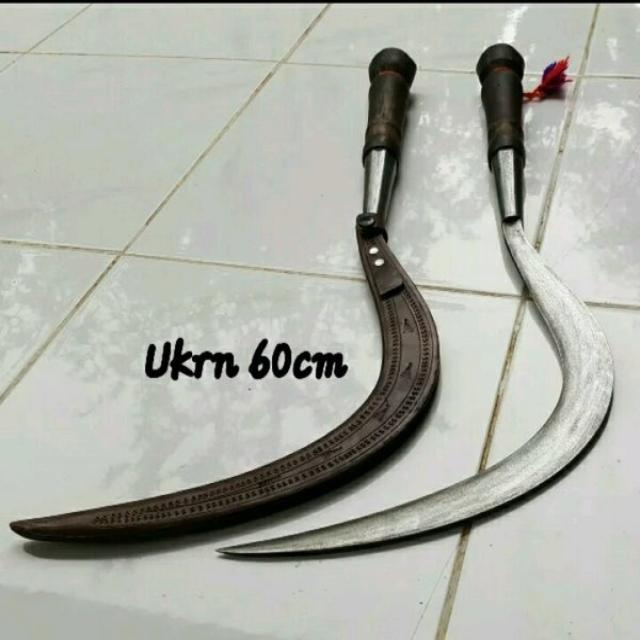Celurit: (218, 45, 617, 564)
